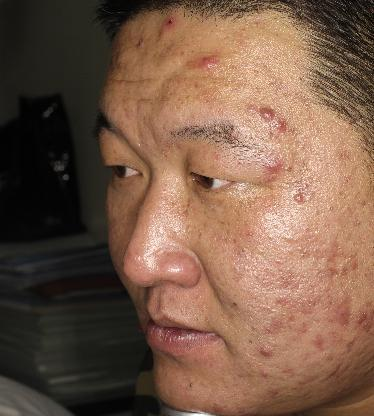Nodules: (193, 47, 225, 75), (262, 147, 286, 181), (257, 105, 278, 123)
Papules: (275, 115, 290, 134), (258, 345, 274, 360)
acne scar: (324, 293, 359, 332)
pustules: (291, 189, 309, 208)
